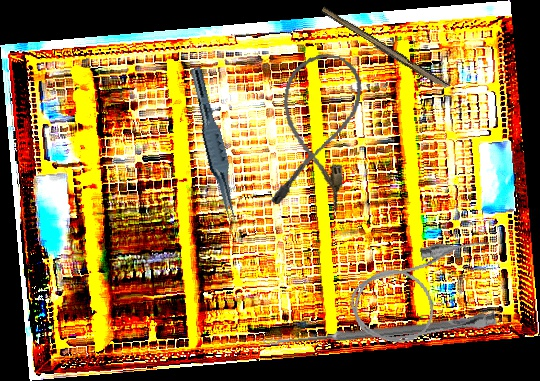Cannula: (341, 232, 508, 356), (265, 48, 367, 215)
Scalpel Handle: (318, 6, 450, 91)
Surgical Spoon: (262, 313, 496, 350)
Tissue Forceps: (181, 66, 246, 225)
